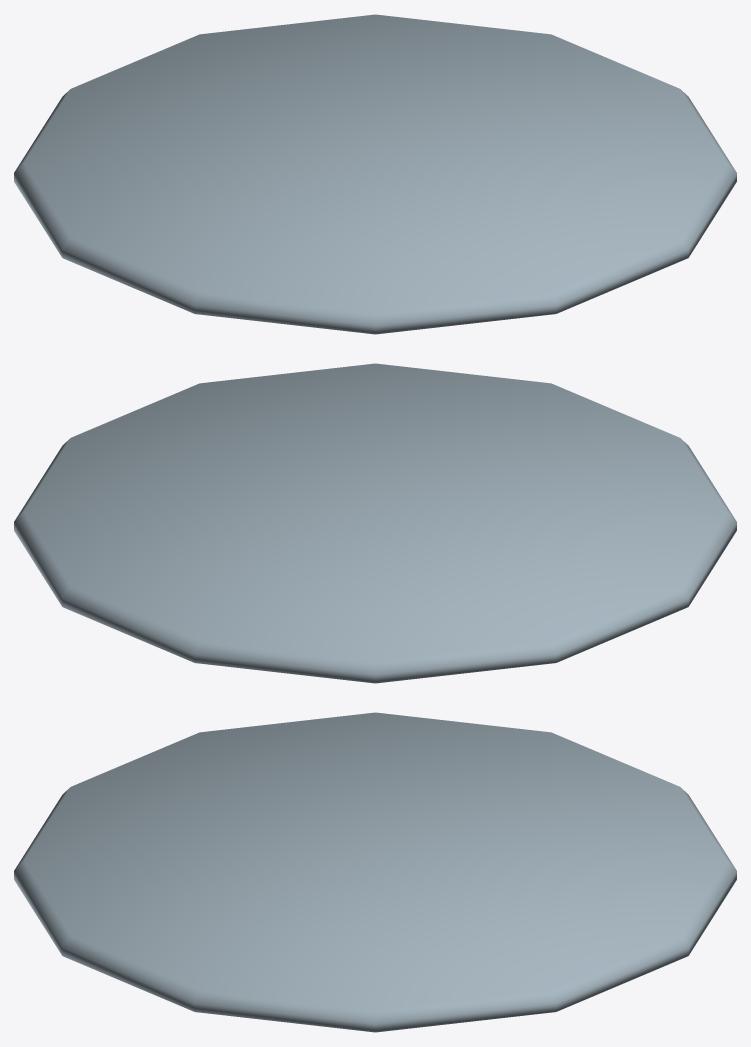
File: rug1.FBX
3 renders of one model, top to bottom at view 1: azimuth 30°, elevation 25°; view 2: azimuth 150°, elevation 25°; view 3: azimuth 270°, elevation 25°, orthographic.
Parts seen in each view (by area): view 1: rug1; view 2: rug1; view 3: rug1.
Part boxes in pixels (box(x1,y1,x2,y2)): rug1: box(14, 14, 736, 334); rug1: box(14, 363, 736, 683); rug1: box(14, 712, 736, 1032).
Bounding box in the file's own units: 173 × 4.92 × 173.
1 material, 1 textured.
